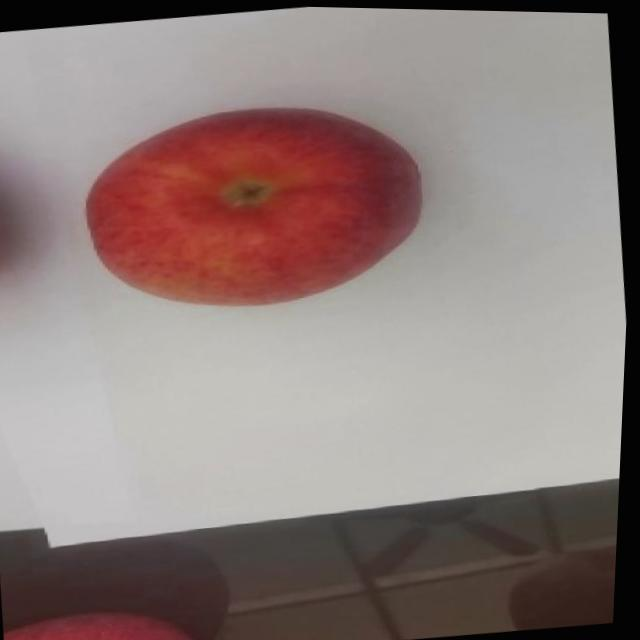Apple: (72, 83, 435, 327), (7, 592, 211, 640)
